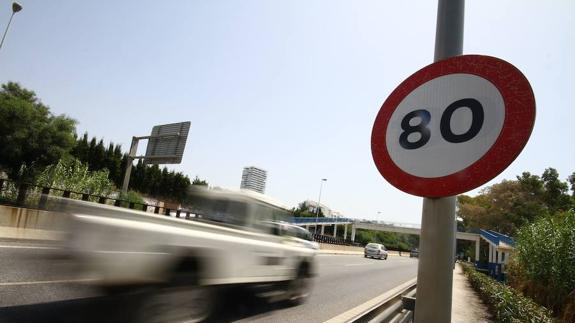Speed_limit_80km: (370, 55, 539, 198)
